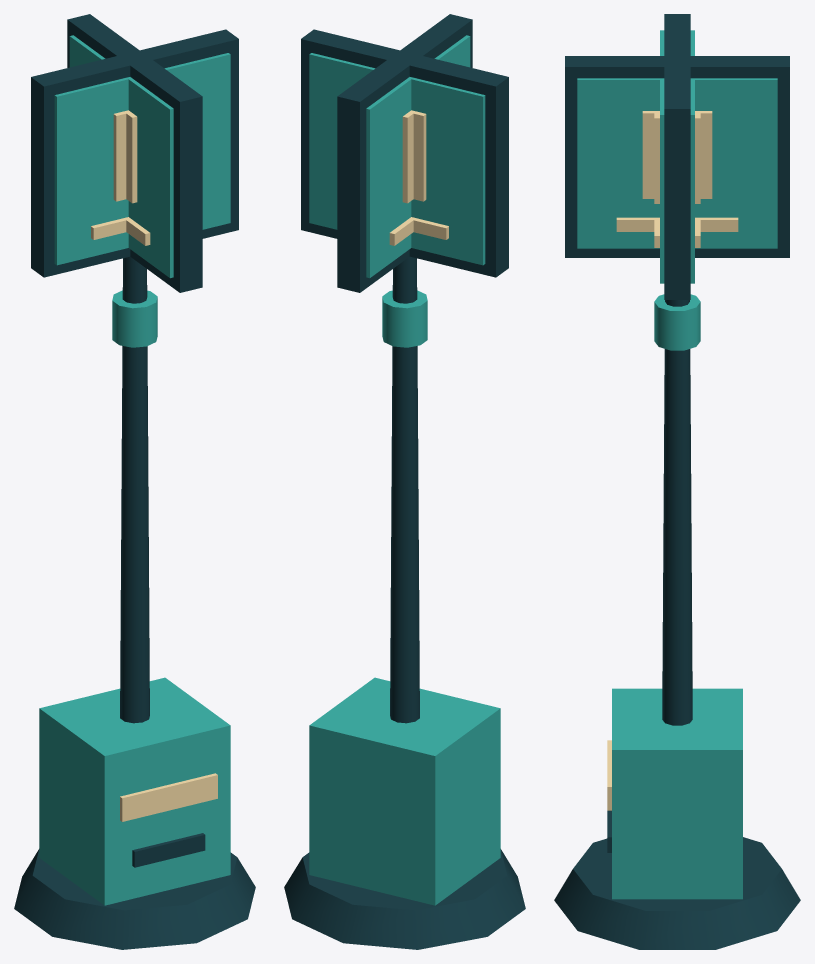
The model's file is parcel-tower-2.glb.
3 renders of one model, left to right at view 1: azimuth 30°, elevation 25°; view 2: azimuth 150°, elevation 25°; view 3: azimuth 270°, elevation 25°, orthographic.
Bounding box in the file's own units: 1.62 × 6.37 × 1.7.
